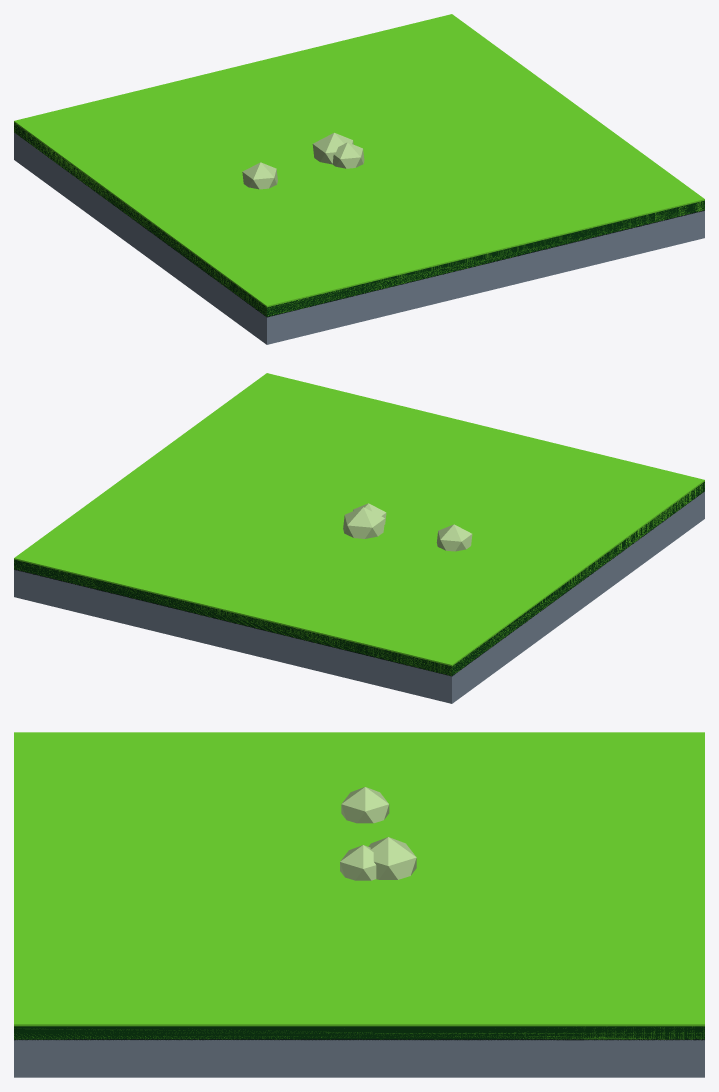
Rendered from SM_Acid_Pool_Fill_2x2.glb.
3 views of the same model, one above another, from view 1: azimuth 30°, elevation 25°; view 2: azimuth 150°, elevation 25°; view 3: azimuth 270°, elevation 25° (orthographic). The views are drawn at different scales.
Visible parts, largest first — view 1: SM_Acid_Pool_Fill_2x2-col; view 2: SM_Acid_Pool_Fill_2x2-col; view 3: SM_Acid_Pool_Fill_2x2-col.
Boxes of the visible parts, box(x1,y1,x2,y2) form: SM_Acid_Pool_Fill_2x2-col: box(14, 14, 704, 344); SM_Acid_Pool_Fill_2x2-col: box(14, 373, 704, 703); SM_Acid_Pool_Fill_2x2-col: box(14, 732, 704, 1077).
Size of the model in its own units: 2 by 0.2712 by 2.
